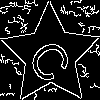C: (25, 30, 82, 87)
